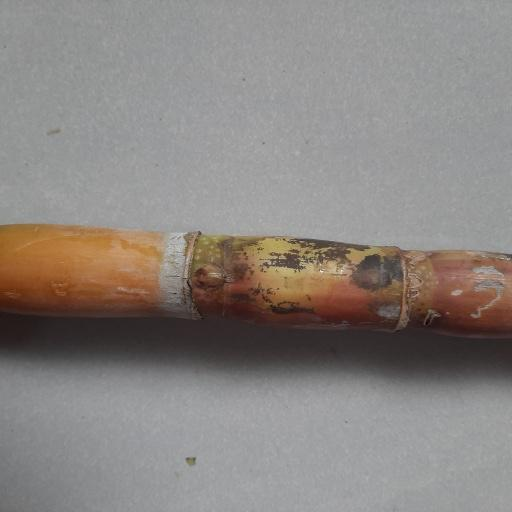Bud: (191, 261, 227, 293)
